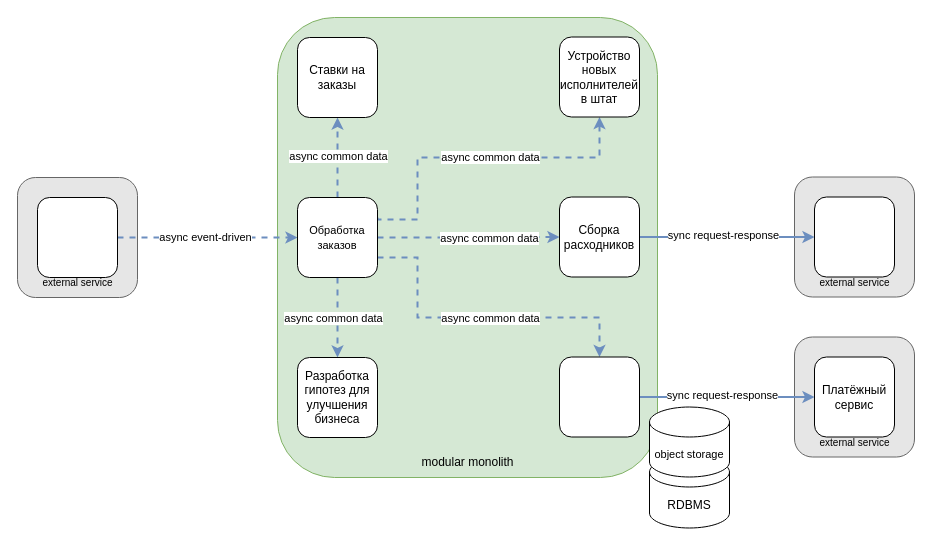
The diagram is 932 pixels wide and 546 high, and some of its shapes have lost their labels. The shapes that lost their labels are listed below. From the top down, each one's centre as x and y in pixels, then its label:
the point at 77,237: HCB
the point at 854,236: Поставка печенья
the point at 599,396: Начисление и списание средств
